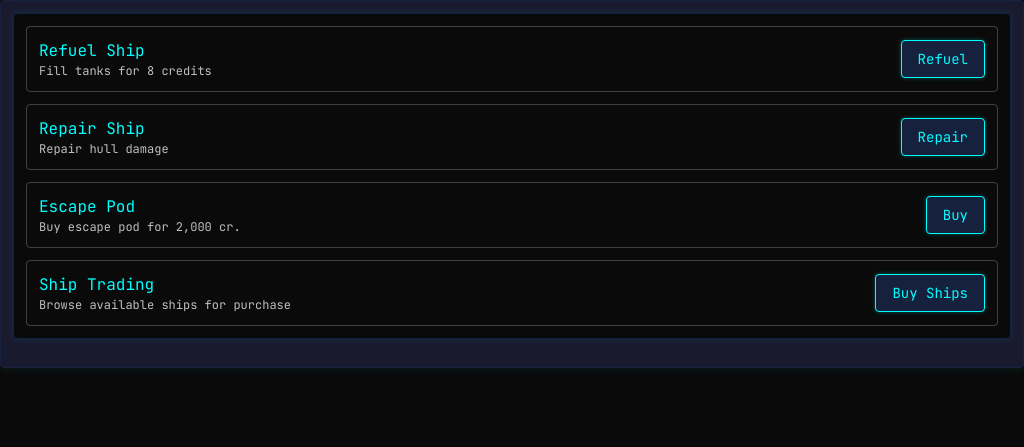
Test: ShipyardScreen › should show success message after successful action
Click the button with test id "refuel-button": (943, 59) [901, 40, 985, 78]
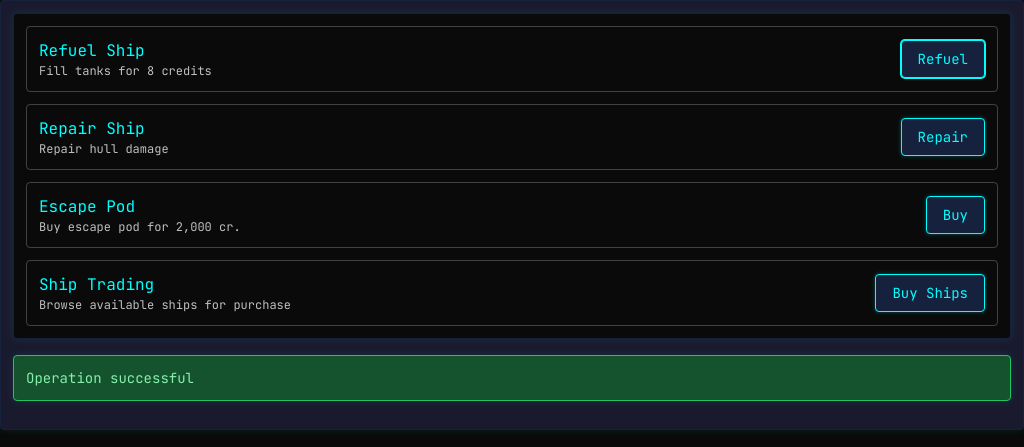
Expected: the text "Operation successful" is shown, [26, 369, 194, 387]
